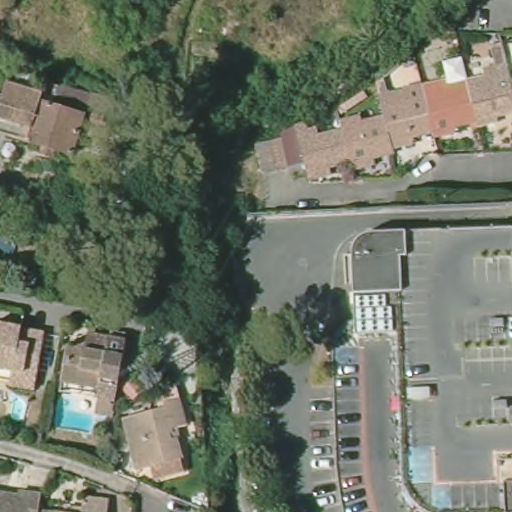pool: (55, 387, 100, 441), (7, 392, 32, 422)
